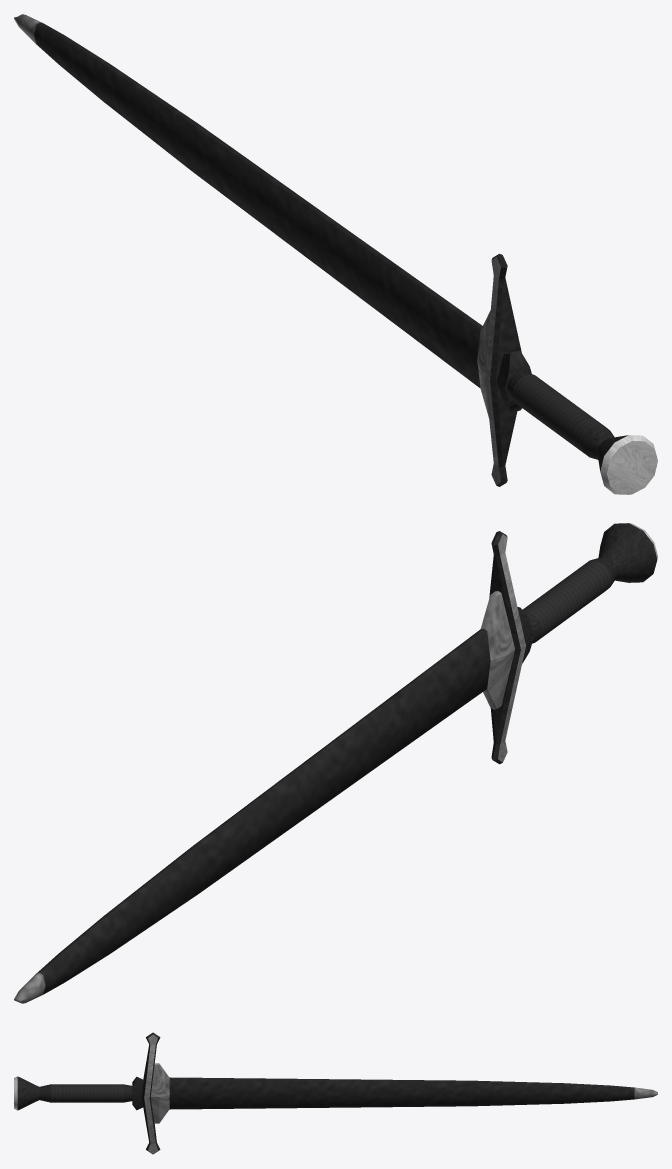
The model's file is swordscabbard.fbx.
The picture shows the model from 3 angles, top to bottom: view 1: azimuth 30°, elevation 25°; view 2: azimuth 150°, elevation 25°; view 3: azimuth 270°, elevation 25°; orthographic projection. The views are drawn at different scales.
Parts seen in each view (by area): view 1: swordscabbard, sword; view 2: swordscabbard, sword; view 3: swordscabbard, sword.
Part boxes in pixels (box(x1,y1,x2,y2)): swordscabbard: box(14, 14, 490, 417); sword: box(485, 253, 657, 494); swordscabbard: box(14, 591, 515, 1003); sword: box(489, 523, 657, 764); swordscabbard: box(150, 1063, 657, 1123); sword: box(14, 1032, 160, 1154).
Size of the model in its own units: 6.27 by 24.49 by 117.
